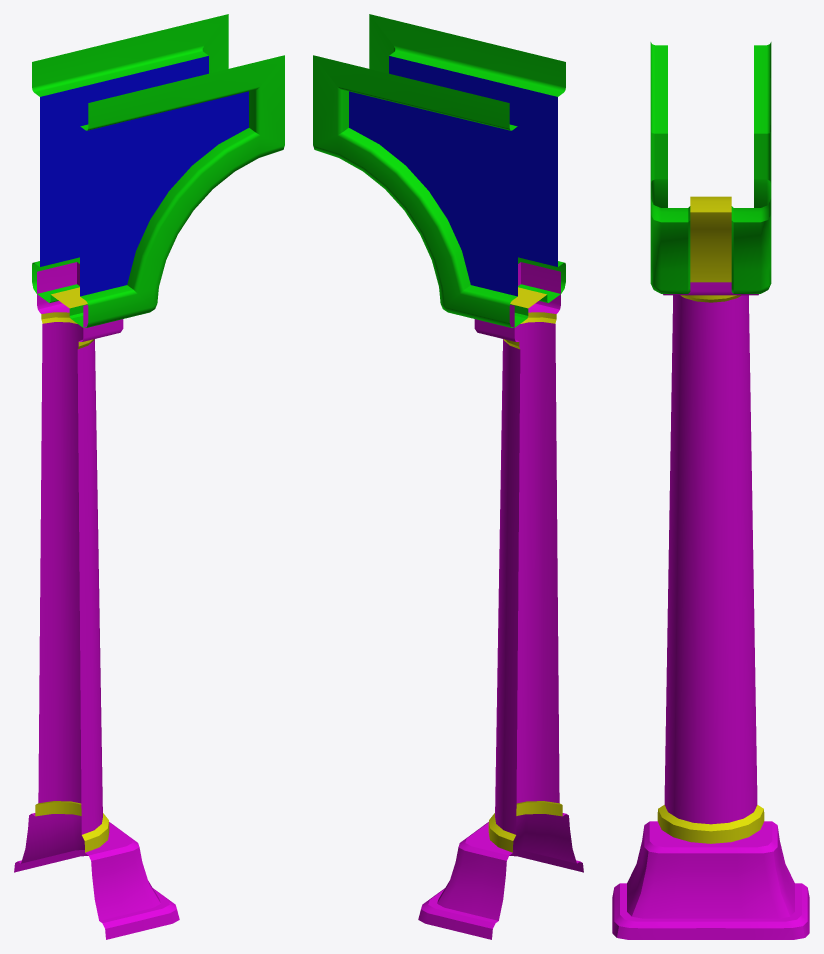
Rendered from Pillar02_End.fbx.
The picture shows the model from 3 angles, left to right: view 1: azimuth 30°, elevation 25°; view 2: azimuth 150°, elevation 25°; view 3: azimuth 270°, elevation 25°; orthographic projection. The views are drawn at different scales.
Visible parts, largest first — view 1: pCube78; view 2: pCube78; view 3: pCube78.
Part boxes in pixels (<box>): pCube78: <box>14,14,284,939</box>; pCube78: <box>313,14,583,939</box>; pCube78: <box>612,42,809,939</box>.
Bounding box in the file's own units: 150 × 600 × 122.
